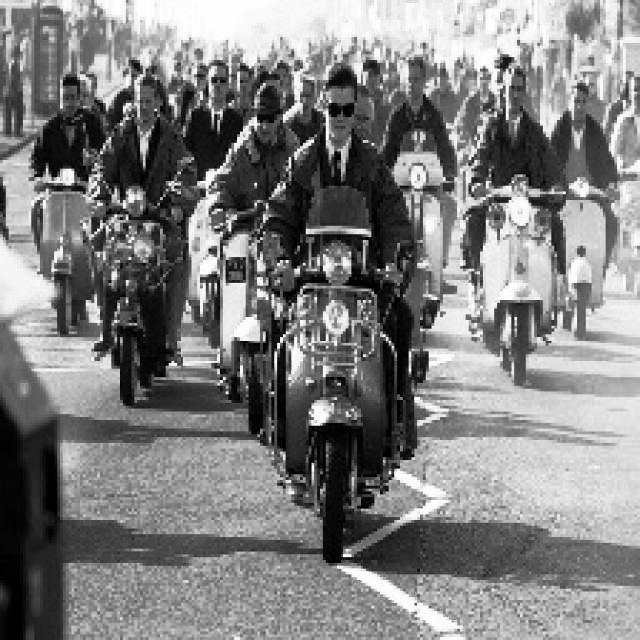Bike: (285, 223, 395, 559), (96, 179, 174, 405), (479, 182, 553, 386), (214, 212, 276, 422), (555, 186, 619, 345), (30, 175, 92, 334), (403, 156, 449, 322)
